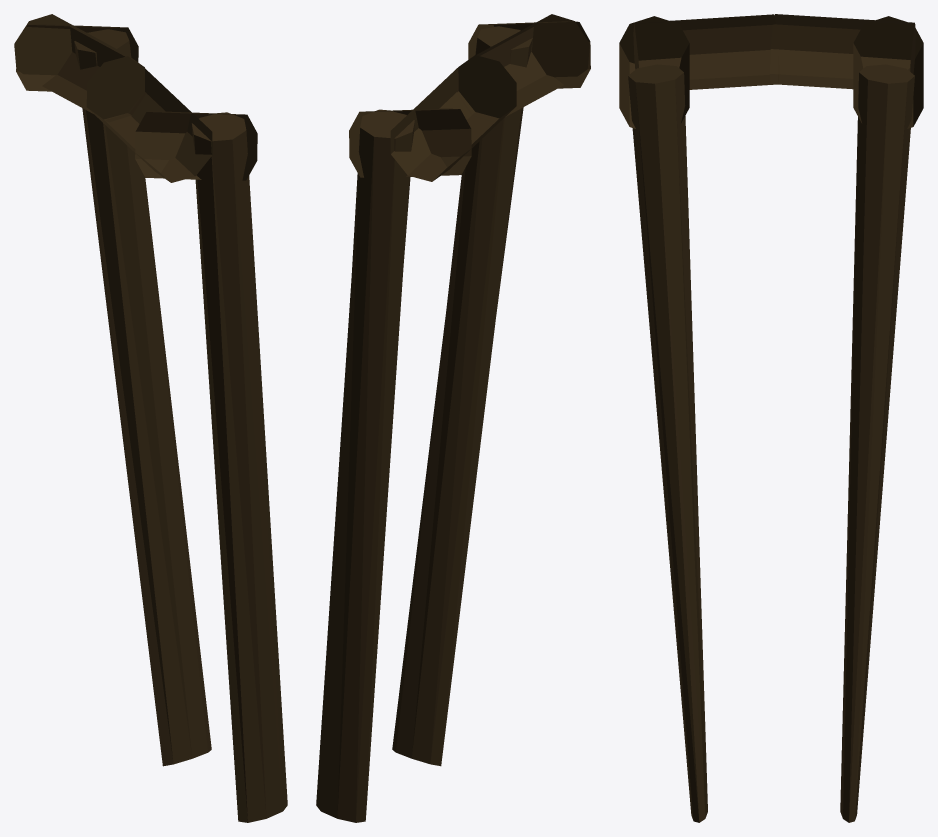
Rendered from fork.obj.
3 views of the same model, side by side, from view 1: azimuth 30°, elevation 25°; view 2: azimuth 150°, elevation 25°; view 3: azimuth 270°, elevation 25° (orthographic).
Bounding box in the file's own units: 0.3614 × 1.58 × 0.585.
